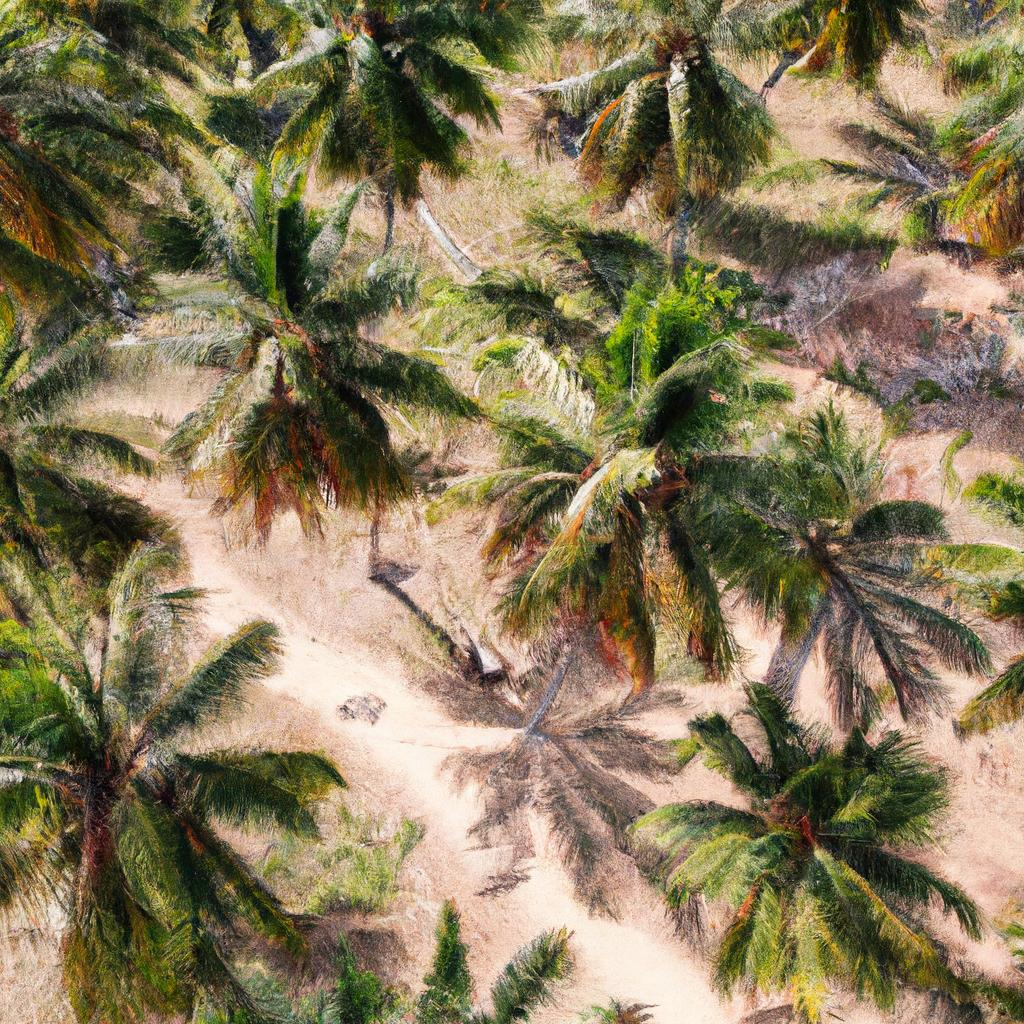coconut_tree: (451, 231, 887, 680), (0, 523, 363, 1023), (606, 661, 1023, 1020), (124, 151, 455, 534)
